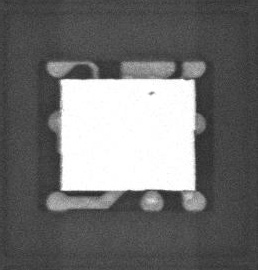DIE_INK: (140, 94, 149, 100)
